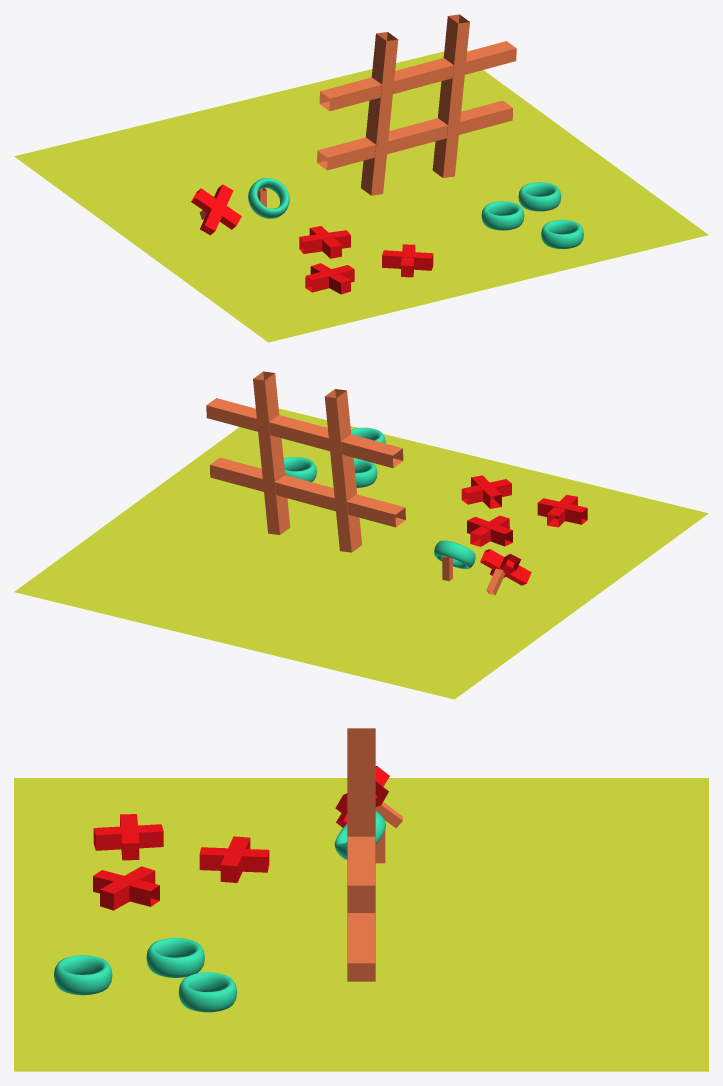
Rendered from ttt.glb.
3 renders of one model, top to bottom at view 1: azimuth 30°, elevation 25°; view 2: azimuth 150°, elevation 25°; view 3: azimuth 270°, elevation 25°, orthographic. The views are drawn at different scales.
Visible parts, largest first — view 1: Cube.015, Plane, Cube.003, Cube, Cube.002, Torus, Torus.002, Cube.007; view 2: Cube.015, Plane, Cube.003, Cube, Cube.002, Torus, Cube.008, Cube.010; view 3: Cube.015, Plane, Cube.003, Cube.002, Cube, Torus.001, Torus.003, Torus.002, Cube.004, Cube.008, Cube.009.
Boxes of the visible parts, box(x1,y1,x2,y2) form: Cube.015: box(15, 14, 708, 342); Plane: box(14, 57, 421, 330); Cube.003: box(317, 100, 512, 169); Cube: box(363, 36, 394, 195); Cube.002: box(319, 41, 516, 110); Torus: box(248, 178, 288, 218); Torus.002: box(519, 182, 560, 211); Cube.007: box(205, 184, 232, 229); Cube.015: box(14, 371, 705, 699); Plane: box(27, 421, 708, 690); Cube.003: box(210, 457, 405, 526); Cube: box(328, 391, 360, 552); Cube.002: box(207, 398, 403, 467); Torus: box(434, 541, 475, 568); Cube.008: box(467, 517, 512, 546); Cube.010: box(537, 500, 587, 524); Cube.015: box(14, 728, 708, 1071); Plane: box(14, 778, 708, 1064); Cube.003: box(347, 913, 375, 963); Cube.002: box(347, 836, 375, 885); Cube: box(347, 738, 375, 775); Torus.001: box(54, 955, 112, 995); Torus.003: box(146, 938, 204, 977); Torus.002: box(179, 972, 237, 1012); Cube.004: box(100, 867, 155, 910); Cube.008: box(220, 837, 250, 882); Cube.009: box(199, 847, 269, 871).
Size of the model in its own units: 12.13 by 4.04 by 12.13.
